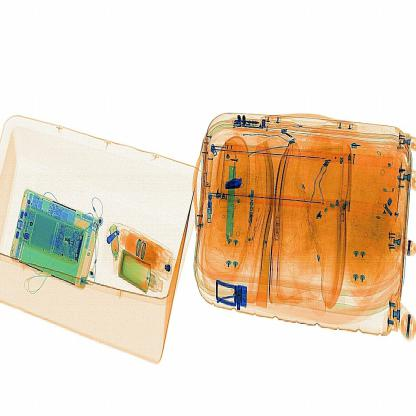knife: (219, 172, 253, 196)
